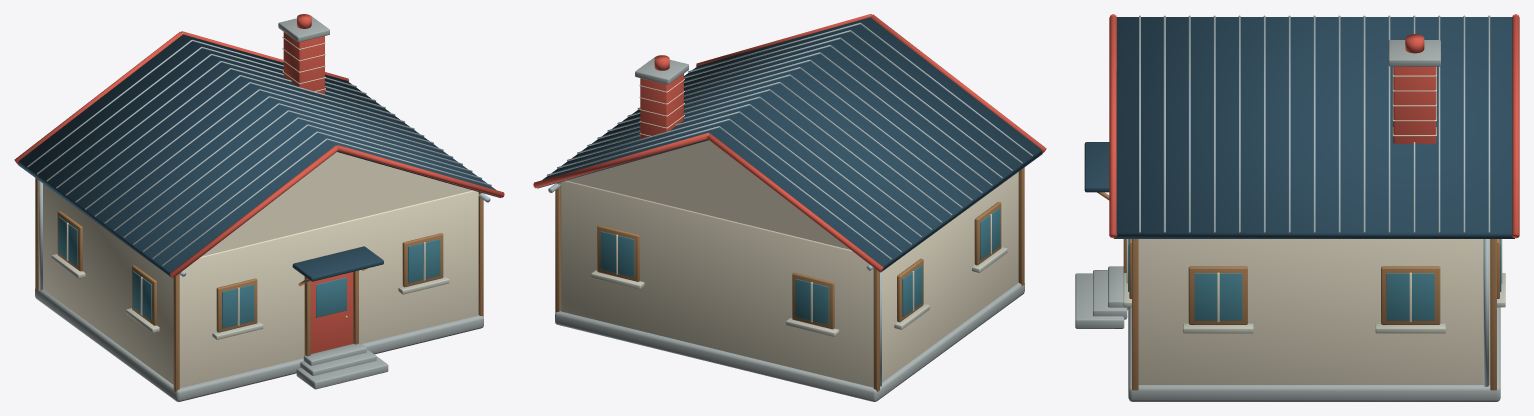
The model's file is cottage.glb.
3 renders of one model, left to right at view 1: azimuth 30°, elevation 25°; view 2: azimuth 150°, elevation 25°; view 3: azimuth 270°, elevation 25°, orthographic. The views are drawn at different scales.
Visible parts, largest first — view 1: cottage_Ivory, cottage_Navy, cottage_Aluminium, cottage_Stone, cottage_Paint, cottage_Wood, cottage_Glass, cottage_Concrete; view 2: cottage_Ivory, cottage_Navy, cottage_Aluminium, cottage_Stone, cottage_Paint, cottage_Wood, cottage_Glass, cottage_Concrete; view 3: cottage_Navy, cottage_Ivory, cottage_Stone, cottage_Aluminium, cottage_Paint, cottage_Wood, cottage_Glass, cottage_Concrete.
Part boxes in pixels (x1,y1,x2,y2): cottage_Ivory: (43, 36, 478, 388); cottage_Navy: (18, 34, 500, 281); cottage_Aluminium: (27, 32, 491, 289); cottage_Stone: (35, 15, 483, 401); cottage_Paint: (14, 14, 504, 353); cottage_Wood: (35, 178, 483, 392); cottage_Glass: (58, 216, 440, 328); cottage_Concrete: (51, 254, 449, 339); cottage_Ivory: (560, 79, 1018, 387); cottage_Navy: (537, 17, 1042, 272); cottage_Aluminium: (547, 15, 1032, 386); cottage_Stone: (555, 57, 1024, 401); cottage_Paint: (533, 14, 1046, 272); cottage_Wood: (555, 167, 1024, 391); cottage_Glass: (600, 208, 1000, 324); cottage_Concrete: (591, 247, 1007, 336); cottage_Navy: (1084, 17, 1514, 238); cottage_Ivory: (1126, 66, 1502, 384); cottage_Stone: (1075, 40, 1500, 401); cottage_Aluminium: (1114, 15, 1514, 386); cottage_Paint: (1109, 14, 1519, 238); cottage_Wood: (1097, 192, 1499, 390); cottage_Glass: (1128, 239, 1501, 320); cottage_Concrete: (1123, 273, 1505, 333).
Bounding box in the file's own units: 12.19 × 8.66 × 10.87.
